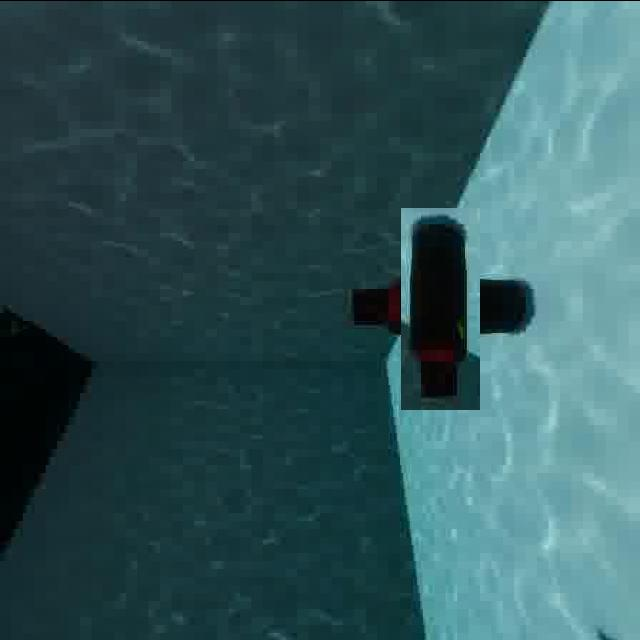Cylinder: (370, 237, 511, 378)
